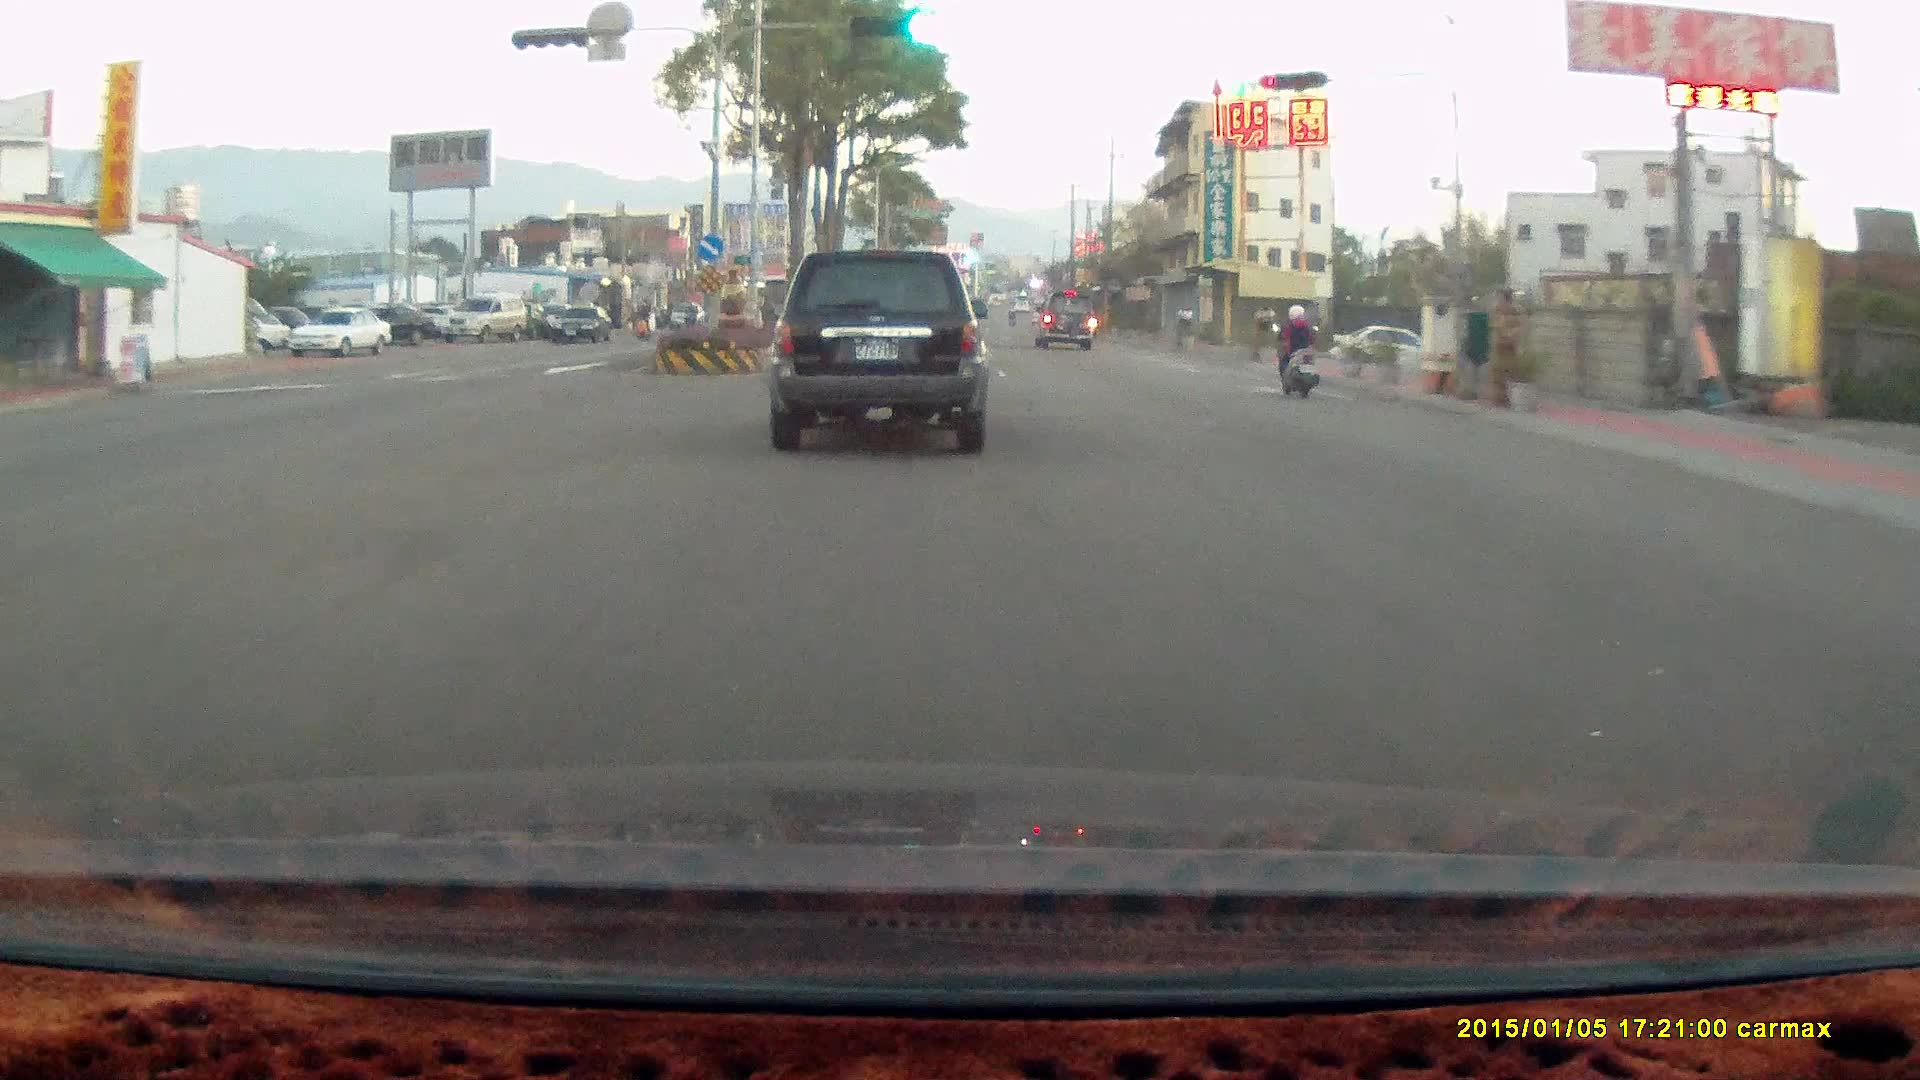rider: (1262, 294, 1332, 409), (1267, 300, 1316, 397)
vehicle: (776, 255, 1000, 463), (769, 249, 990, 453), (1326, 324, 1443, 376), (293, 309, 397, 363), (287, 305, 390, 357), (438, 292, 530, 343), (1332, 324, 1423, 374), (438, 291, 529, 342), (1037, 293, 1096, 358), (1031, 289, 1094, 348), (346, 307, 433, 349), (553, 306, 615, 346), (552, 305, 613, 344)
